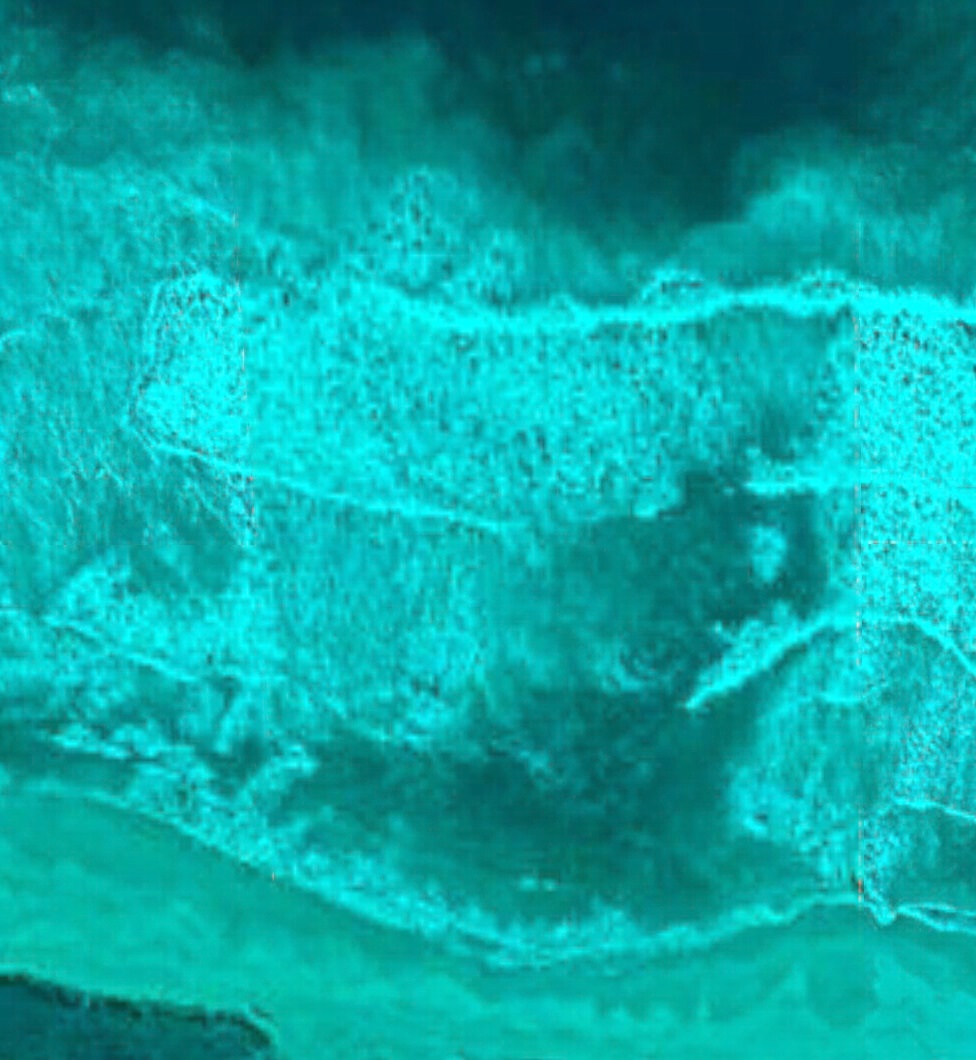rip_current: (477, 173, 863, 878)
